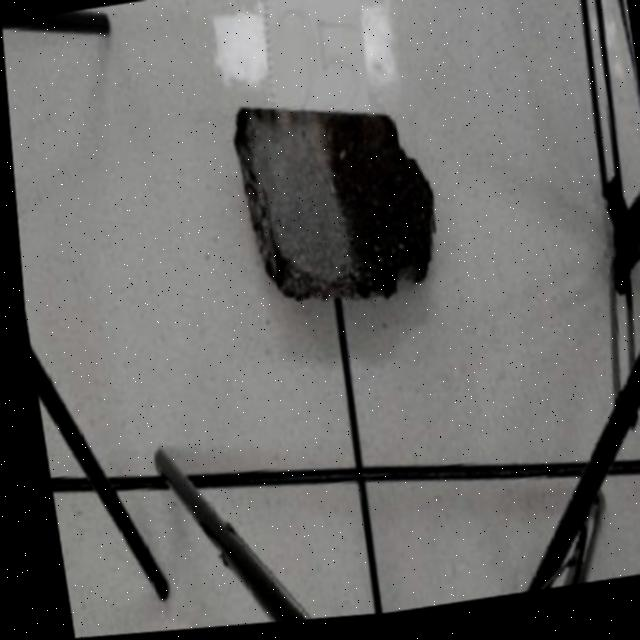Road Debris: (307, 100, 436, 301)
